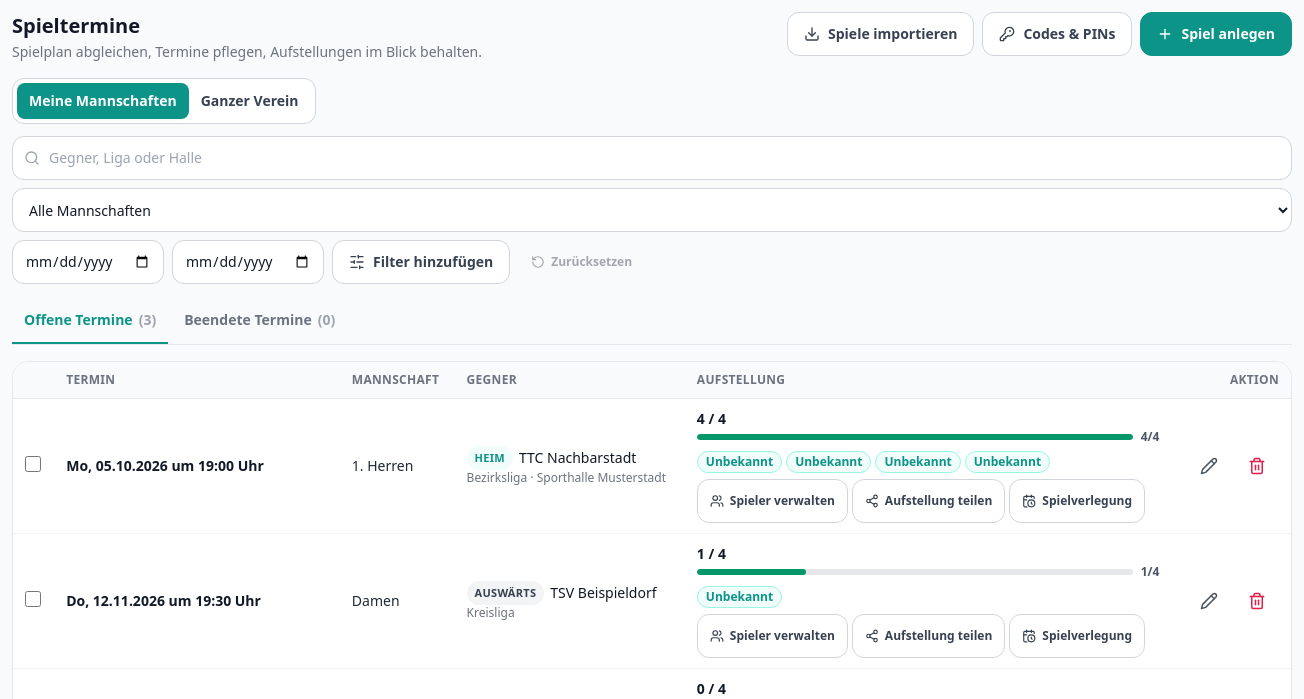
Test: GamesPage › blendet die Zusatzfilter erst auf Wunsch ein
Expected: the field labelled "Spielerstand" is not shown
What coordinates should you click on to do the following:
click the button "Filter hinzufügen"
I would click on:
 (421, 262)
Its box is 332,240 -> 510,284.
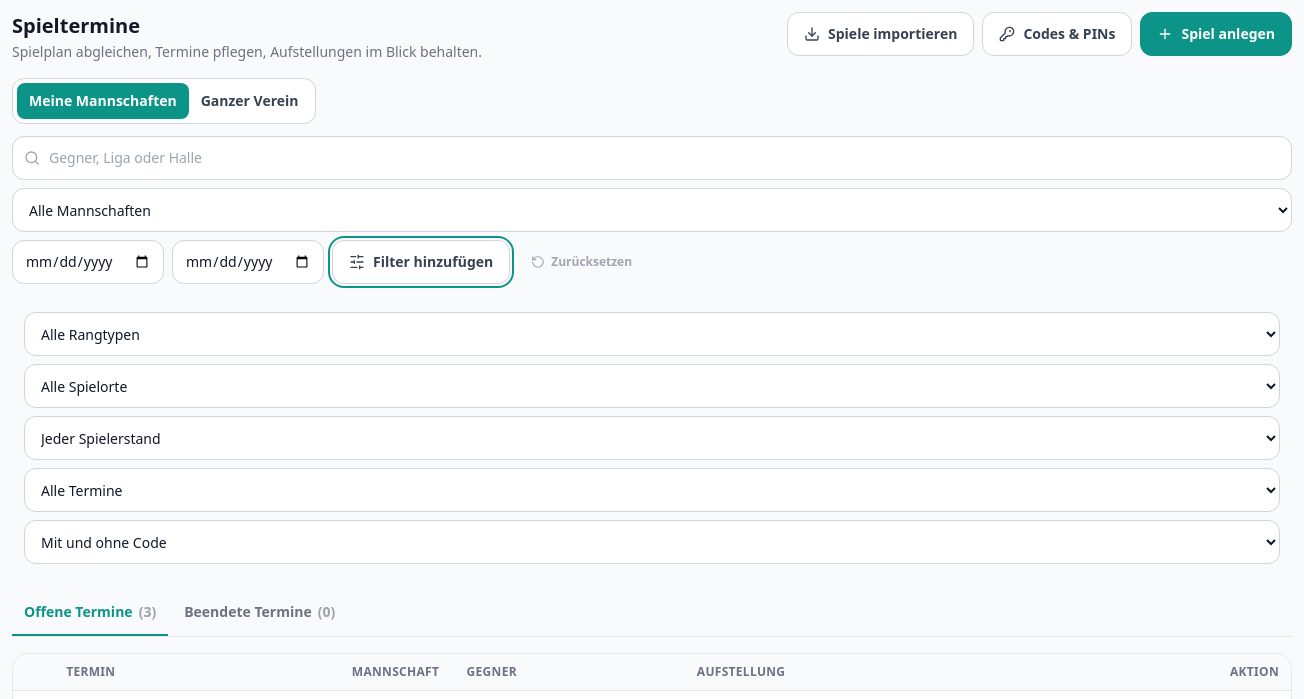
Expected: the dropdown named "Spielerstand" is shown, 24,416 -> 1280,460
